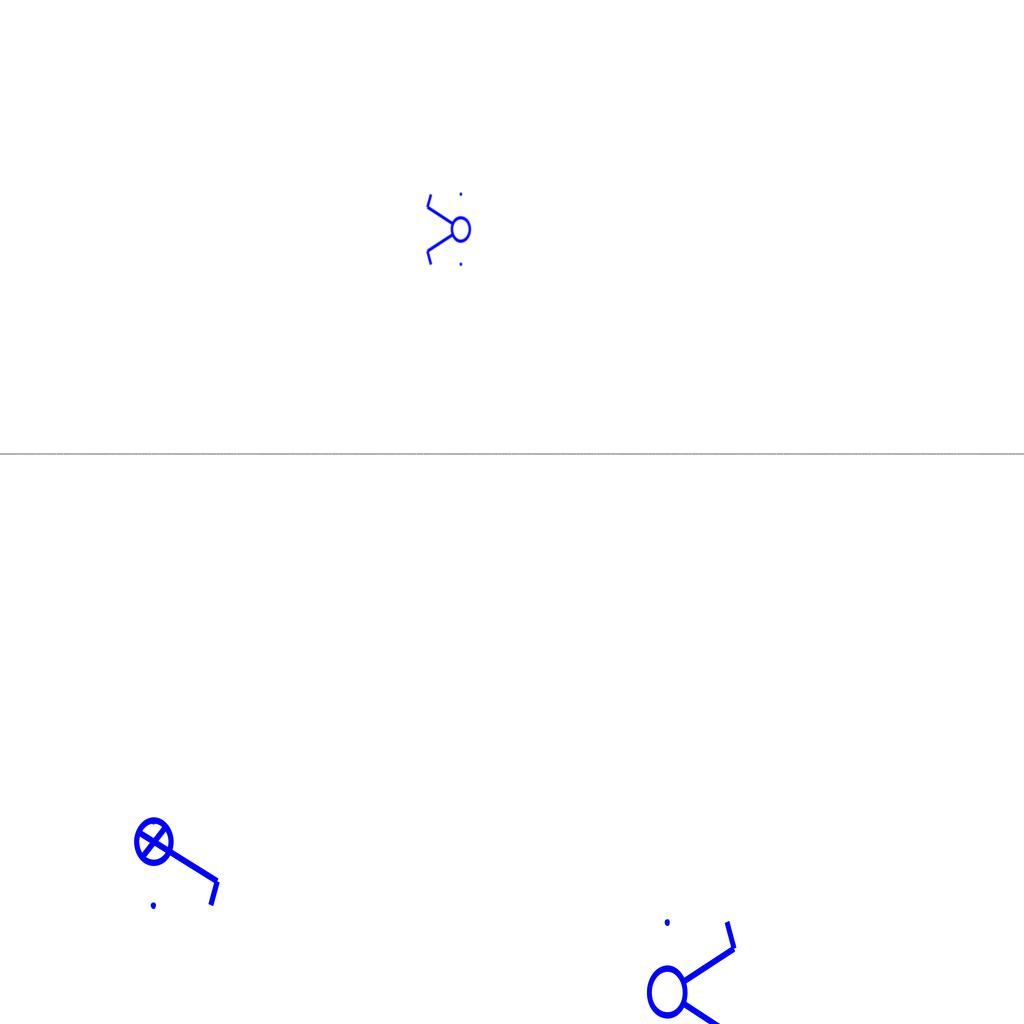Ausschalter_beleuchtet: (132, 803, 228, 915)
Serienschalter: (645, 907, 741, 1024), (424, 188, 472, 272)
